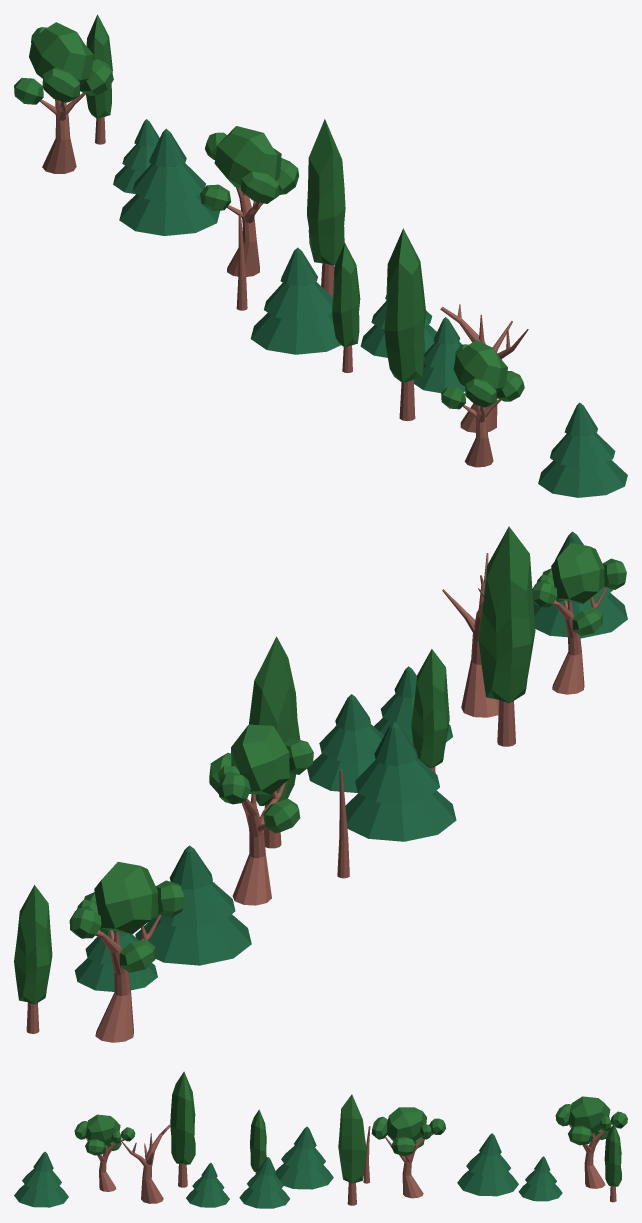
File: ForestWallH.glb
The picture shows the model from 3 angles, top to bottom: view 1: azimuth 30°, elevation 25°; view 2: azimuth 150°, elevation 25°; view 3: azimuth 270°, elevation 25°; orthographic projection. The views are drawn at different scales.
Parts seen in each view (by area): view 1: ForestWallH; view 2: ForestWallH; view 3: ForestWallH.
Boxes of the visible parts, x1,y1,x2,y2 form: ForestWallH: (14,14,627,497); ForestWallH: (14,526,627,1042); ForestWallH: (14,1071,627,1208).
Size of the model in its own units: 6.44 by 7.94 by 38.88.
